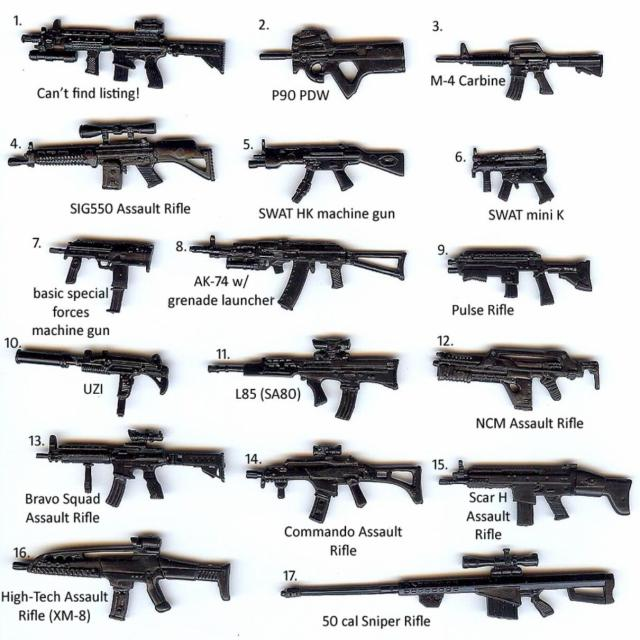gun: (283, 552, 614, 620), (14, 531, 234, 619), (186, 229, 405, 308), (5, 118, 216, 196), (21, 12, 228, 91), (206, 338, 402, 418), (244, 439, 423, 522), (35, 423, 223, 501), (436, 456, 632, 528), (13, 343, 169, 419), (258, 24, 404, 100), (434, 36, 604, 100), (244, 135, 408, 201), (436, 346, 602, 411), (442, 245, 593, 309), (49, 230, 158, 315), (470, 141, 556, 206)
